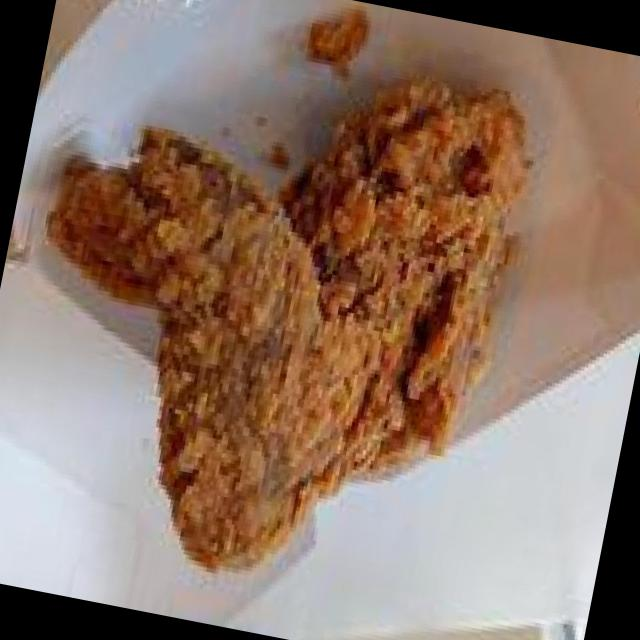Fried Chicken: (46, 75, 534, 574)
